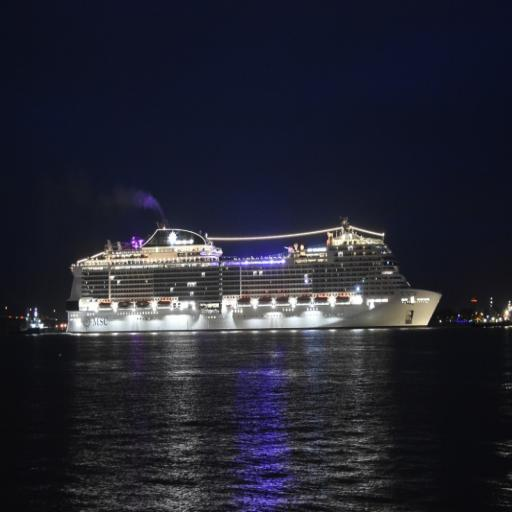cruises: (65, 220, 445, 340)
